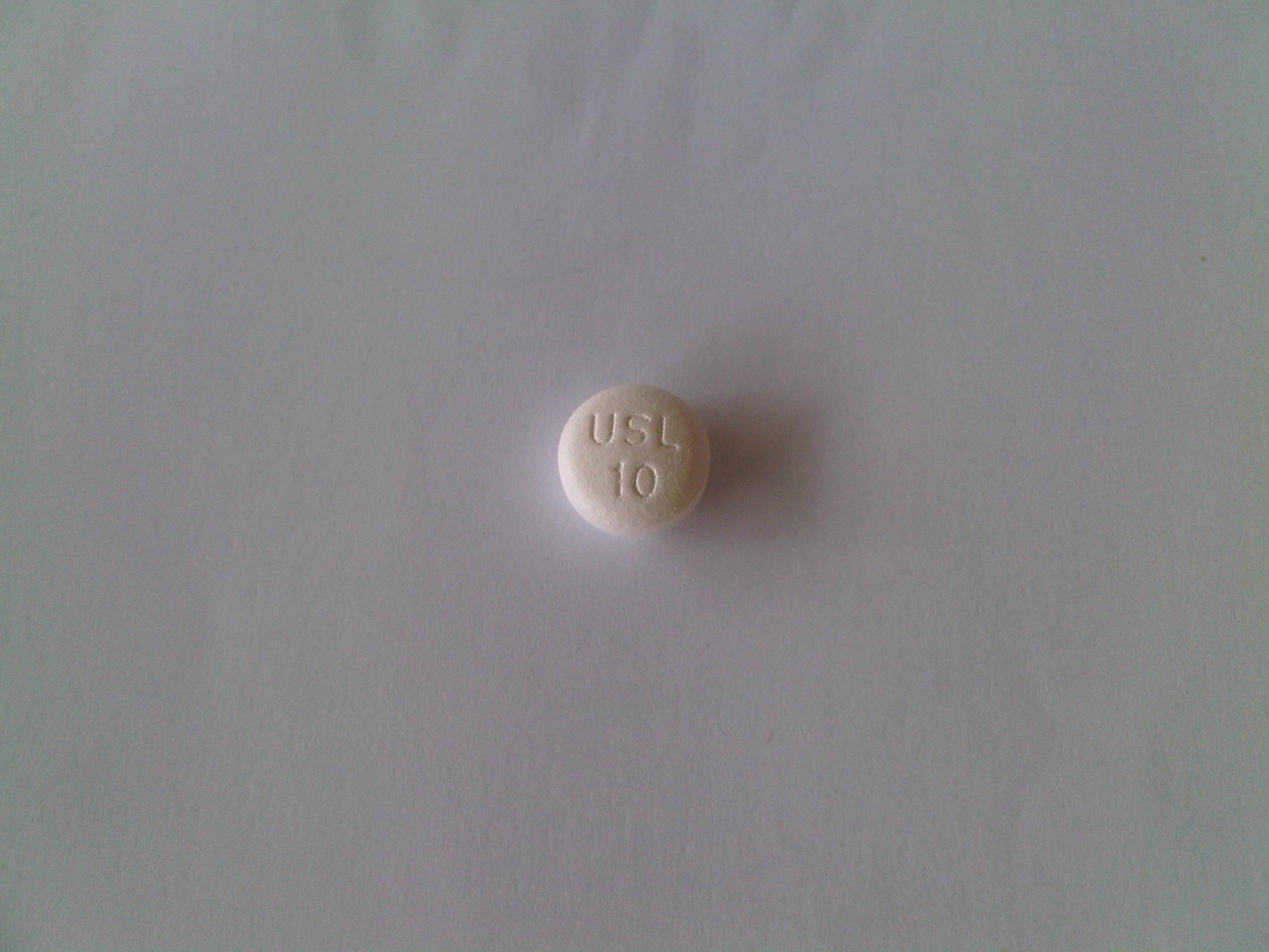Pill: (551, 380, 717, 541)
